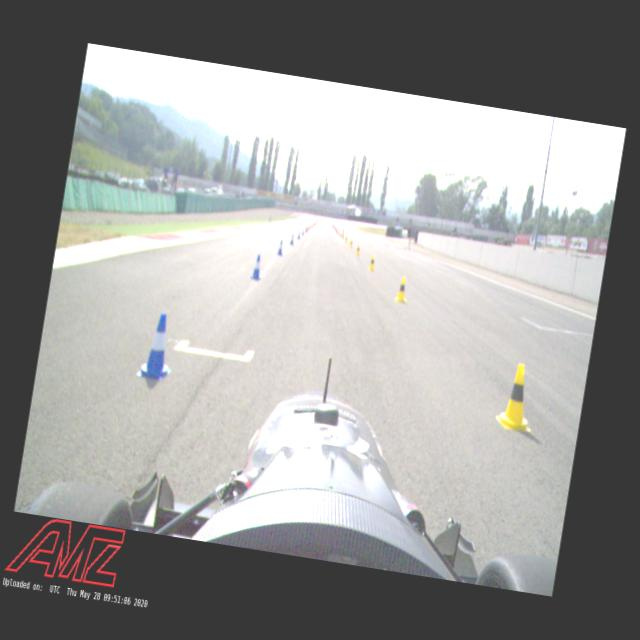blue_cone: (136, 308, 181, 382), (250, 253, 266, 281), (276, 240, 285, 256), (289, 232, 296, 245), (297, 230, 302, 240), (301, 228, 305, 236), (304, 226, 308, 233)
orange_cone: (339, 230, 342, 236), (338, 229, 340, 235)
yellow_cone: (492, 359, 542, 438), (394, 274, 411, 304), (368, 254, 377, 271), (355, 243, 362, 256), (348, 238, 354, 248), (344, 234, 348, 243), (342, 232, 344, 239)
